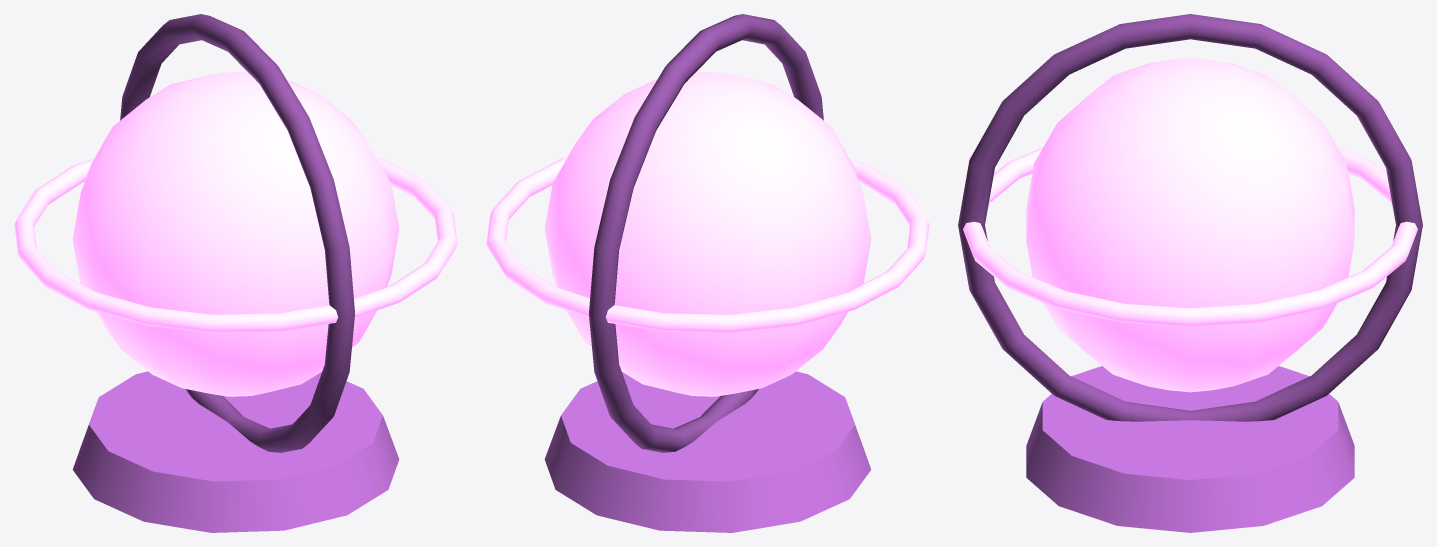
File: nucleo_mana.glb
3 renders of one model, left to right at view 1: azimuth 30°, elevation 25°; view 2: azimuth 150°, elevation 25°; view 3: azimuth 270°, elevation 25°, orthographic. The views are drawn at different scales.
Parts seen in each view (by area): view 1: Glow, Body, Detail; view 2: Glow, Body, Detail; view 3: Glow, Body, Detail.
Boxes of the visible parts, x1,y1,x2,y2 form: Glow: (14,72,457,396); Body: (72,371,399,532); Detail: (120,14,354,452); Glow: (486,72,929,396); Body: (544,371,871,532); Detail: (589,14,823,452); Glow: (963,58,1417,392); Body: (1026,366,1354,532); Detail: (958,14,1422,421).
Size of the model in its own units: 0.272 by 0.293 by 0.276.
